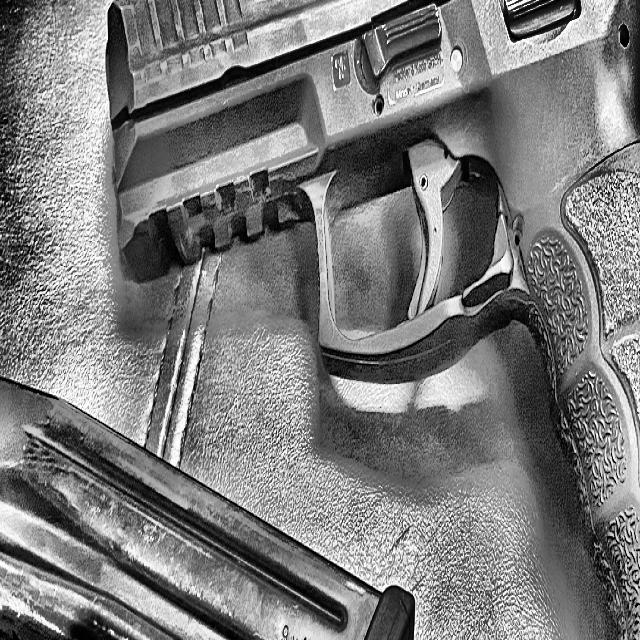Heckler - Koch -H-K-: (106, 0, 640, 640)
